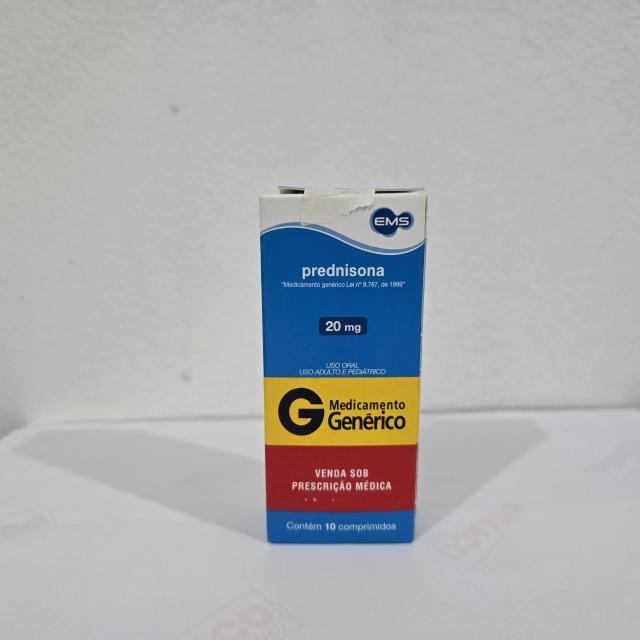prednisona: (254, 180, 432, 550)
